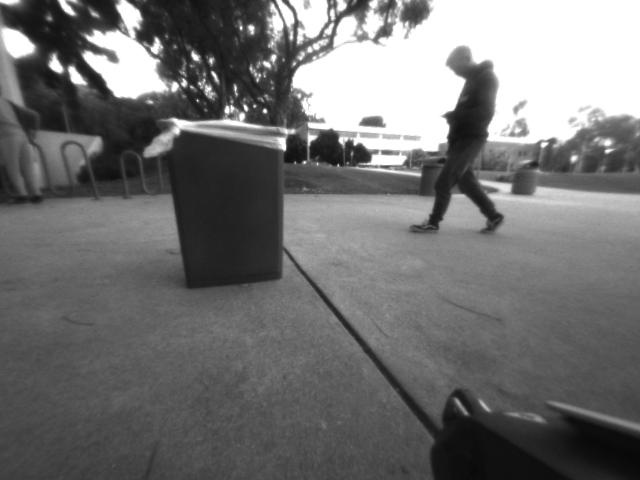trashcan: (153, 111, 306, 298)
